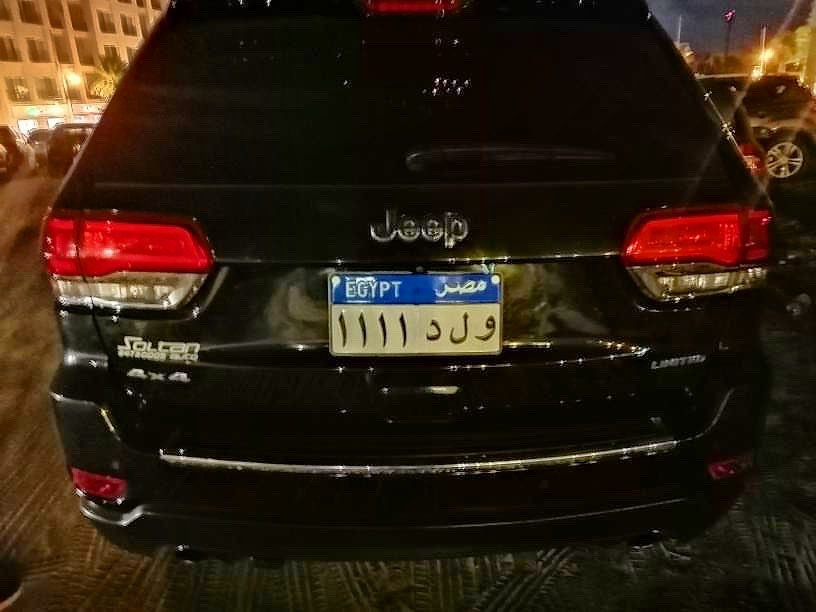carpl: (330, 303, 501, 355)
